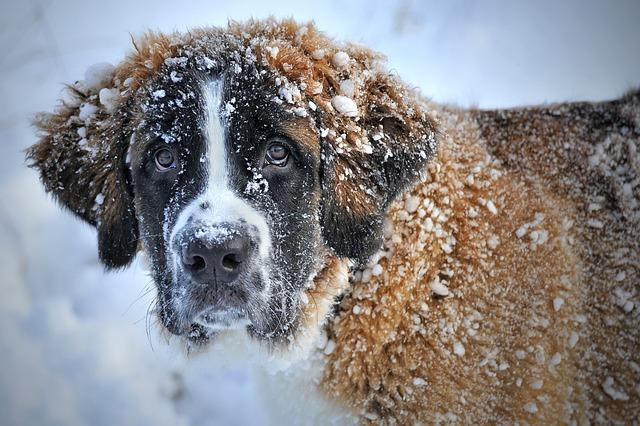Non_Gorille: (51, 9, 640, 426)
